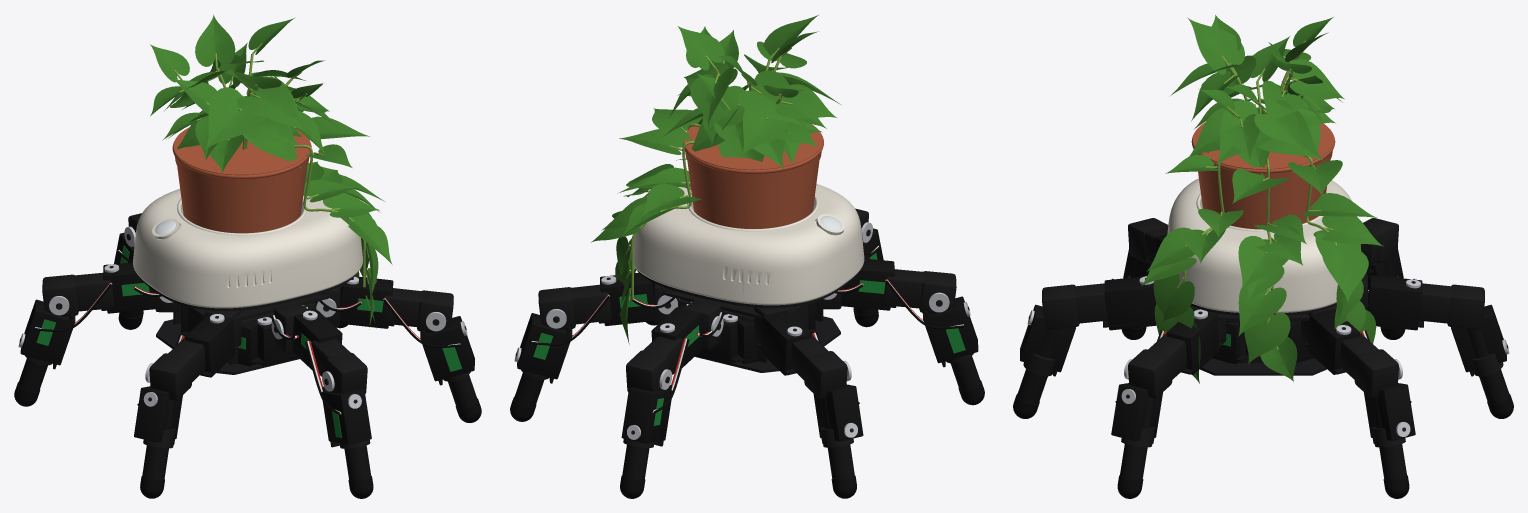
File: walking-planter.glb
3 renders of one model, left to right at view 1: azimuth 30°, elevation 25°; view 2: azimuth 150°, elevation 25°; view 3: azimuth 270°, elevation 25°, orthographic. The views are drawn at different scales.
Visible parts, largest first — view 1: carapace, pot, FR_tibia_servo, RL_tibia_servo, MR_tibia_servo, leaf.025, FR_femur_servo, RR_femur_servo, RR_tibia_servo, RL_femur_servo, leaf.026, RR_knee_block (+31 smaller); view 2: carapace, pot, FL_tibia_servo, ML_tibia_servo, RR_tibia_servo, RL_femur_servo, RL_tibia_servo, RR_femur_servo, FL_femur_servo, RL_knee_block, leaf.014, ML_femur_servo (+30 smaller); view 3: carapace, pot, ML_femur_servo, MR_femur_servo, FL_femur_servo, FL_tibia_servo, FR_tibia_servo, FR_femur_servo, leaf.031, ML_tibia_servo, FL_knee_block, FR_knee_block (+44 smaller).
Boxes of the visible parts, bbox=[...] form: carapace: bbox=[133, 189, 362, 308]; pot: bbox=[172, 127, 311, 233]; FR_tibia_servo: bbox=[420, 316, 474, 385]; RL_tibia_servo: bbox=[18, 299, 75, 369]; MR_tibia_servo: bbox=[321, 386, 371, 447]; leaf.025: bbox=[205, 87, 266, 149]; FR_femur_servo: bbox=[340, 276, 394, 328]; RR_femur_servo: bbox=[185, 313, 238, 377]; RR_tibia_servo: bbox=[134, 386, 182, 444]; RL_femur_servo: bbox=[101, 262, 155, 313]; leaf.026: bbox=[237, 76, 303, 125]; RR_knee_block: bbox=[149, 353, 191, 400]; carapace: bbox=[630, 182, 864, 305]; pot: bbox=[683, 122, 823, 228]; FL_tibia_servo: bbox=[514, 313, 572, 383]; ML_tibia_servo: bbox=[621, 385, 672, 446]; RR_tibia_servo: bbox=[922, 296, 978, 367]; RL_femur_servo: bbox=[757, 310, 810, 375]; RL_tibia_servo: bbox=[813, 384, 863, 443]; RR_femur_servo: bbox=[841, 258, 896, 310]; FL_femur_servo: bbox=[598, 272, 653, 325]; RL_knee_block: bbox=[804, 351, 847, 398]; leaf.014: bbox=[737, 70, 804, 126]; ML_femur_servo: bbox=[651, 307, 702, 367]; carapace: bbox=[1167, 178, 1361, 313]; pot: bbox=[1191, 114, 1335, 229]; ML_femur_servo: bbox=[1367, 275, 1423, 330]; MR_femur_servo: bbox=[1103, 276, 1156, 330]; FL_femur_servo: bbox=[1304, 309, 1360, 374]; FL_tibia_servo: bbox=[1364, 383, 1415, 443]; FR_tibia_servo: bbox=[1111, 383, 1162, 443]; FR_femur_servo: bbox=[1166, 309, 1222, 374]; leaf.031: bbox=[1187, 17, 1244, 74]; ML_tibia_servo: bbox=[1451, 304, 1509, 376]; FL_knee_block: bbox=[1354, 349, 1398, 397]; FR_knee_block: bbox=[1128, 349, 1172, 397].
Bounding box in the file's own units: 0.3463 × 0.3676 × 0.4313.
